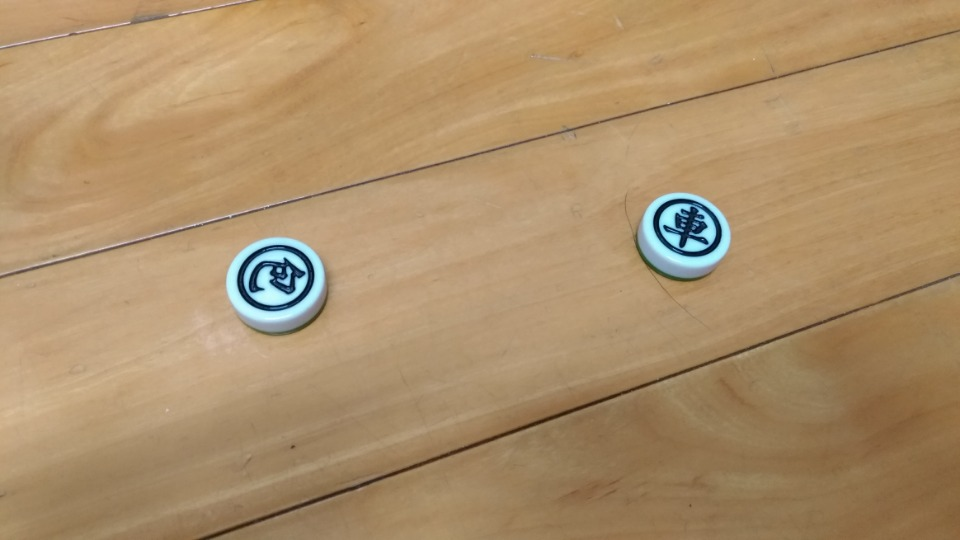b-cannon: (205, 215, 343, 349)
b-rook: (629, 189, 740, 289)
